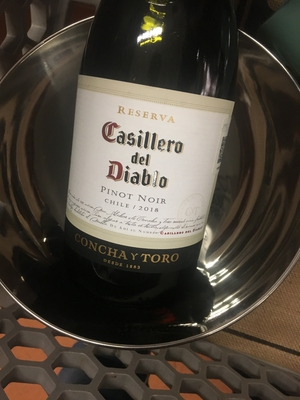casillero del diablo pinot noir: (71, 10, 223, 318)
